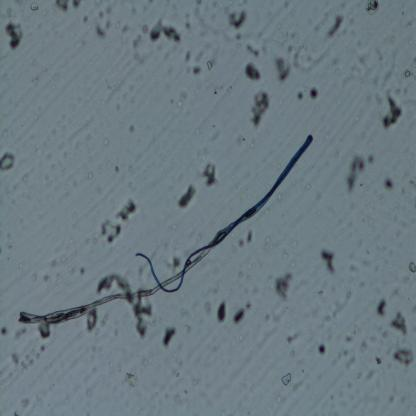Background material: (99, 269, 154, 336), (322, 288, 352, 327), (250, 89, 272, 129), (292, 46, 320, 76), (380, 95, 404, 129), (345, 156, 367, 192), (193, 5, 218, 36), (20, 343, 48, 370), (3, 19, 24, 49), (100, 310, 119, 342), (387, 310, 409, 337), (334, 348, 357, 373), (326, 12, 346, 40), (226, 7, 248, 32), (231, 302, 253, 326), (99, 219, 121, 243), (115, 197, 138, 219), (104, 80, 125, 104), (274, 53, 292, 81), (177, 183, 197, 208), (276, 271, 292, 301), (391, 347, 415, 367), (162, 22, 184, 43), (322, 248, 337, 278), (132, 30, 145, 64), (371, 66, 393, 86), (264, 235, 282, 259), (148, 16, 164, 42), (345, 66, 364, 87), (0, 370, 18, 392), (160, 325, 178, 347), (215, 298, 229, 326), (0, 150, 16, 174), (244, 63, 263, 82), (203, 164, 218, 188), (357, 50, 370, 77), (123, 368, 138, 390), (211, 81, 233, 96), (194, 40, 209, 62), (207, 118, 220, 143), (258, 28, 270, 54), (31, 390, 44, 412), (279, 370, 293, 390), (385, 83, 408, 95), (50, 251, 68, 266), (12, 323, 27, 341), (38, 322, 52, 341), (213, 272, 224, 296), (264, 269, 276, 291), (285, 330, 307, 342), (167, 257, 183, 273), (375, 299, 388, 318), (198, 142, 209, 164), (365, 0, 380, 16), (115, 19, 130, 35), (272, 304, 284, 324), (97, 5, 114, 19), (388, 283, 402, 300), (86, 309, 96, 332), (246, 43, 261, 58), (287, 28, 301, 44), (233, 131, 246, 148), (347, 4, 357, 26), (309, 85, 321, 103), (273, 392, 288, 406), (232, 30, 243, 48), (55, 0, 70, 13), (383, 177, 396, 192), (94, 25, 107, 39), (89, 342, 99, 360), (81, 398, 91, 416), (178, 91, 188, 108), (224, 0, 248, 7), (229, 336, 241, 350), (173, 351, 184, 366), (292, 380, 307, 391), (184, 11, 192, 31), (358, 255, 371, 267), (384, 392, 398, 403), (245, 228, 254, 245), (317, 343, 327, 358), (170, 364, 179, 380), (292, 233, 300, 251), (376, 48, 385, 64), (62, 148, 70, 166), (140, 359, 151, 372), (236, 236, 246, 250), (374, 90, 383, 105), (205, 299, 214, 314), (402, 68, 413, 80), (387, 33, 399, 44), (348, 263, 359, 275), (182, 50, 190, 66), (218, 407, 232, 416), (407, 260, 416, 274), (177, 307, 188, 318), (171, 393, 181, 405), (192, 65, 202, 77), (10, 354, 20, 366), (51, 162, 60, 175), (187, 378, 201, 386), (284, 44, 294, 55), (204, 59, 214, 70), (18, 398, 29, 408), (297, 357, 307, 368), (374, 355, 383, 367), (334, 67, 343, 79), (77, 267, 89, 276), (407, 56, 416, 68), (361, 339, 368, 354), (0, 325, 8, 338), (0, 130, 10, 140), (161, 389, 171, 399), (72, 0, 82, 10), (30, 1, 39, 12), (31, 75, 42, 84), (356, 366, 363, 380), (85, 386, 93, 398), (237, 266, 245, 278), (7, 7, 14, 20), (330, 56, 340, 65), (356, 240, 365, 250), (104, 20, 112, 31), (249, 138, 256, 150), (277, 191, 284, 203), (11, 408, 21, 416), (42, 274, 52, 282), (210, 0, 218, 10), (345, 335, 353, 345), (30, 57, 38, 67), (410, 177, 416, 190), (297, 91, 304, 102), (87, 170, 94, 181), (186, 323, 193, 334), (82, 12, 88, 24), (368, 369, 374, 381), (50, 127, 58, 136), (42, 173, 51, 181), (80, 37, 87, 47), (406, 20, 412, 31), (114, 164, 120, 175), (30, 272, 38, 280), (69, 266, 77, 274), (107, 362, 115, 370), (110, 384, 117, 393), (318, 289, 325, 298), (127, 124, 134, 133), (103, 136, 109, 146), (368, 155, 374, 165), (407, 36, 413, 46), (382, 329, 388, 339), (18, 262, 25, 270), (243, 410, 252, 416), (6, 232, 11, 242), (266, 207, 272, 215), (186, 66, 192, 74), (284, 2, 292, 8), (306, 182, 312, 190), (361, 216, 367, 224), (341, 2, 346, 11), (142, 24, 147, 33), (354, 325, 358, 336), (41, 64, 46, 72), (195, 0, 203, 5), (266, 312, 270, 322), (402, 185, 406, 195), (291, 260, 297, 266), (0, 243, 3, 255), (248, 273, 252, 281), (317, 192, 321, 200), (240, 334, 244, 342), (291, 349, 295, 357), (184, 387, 188, 395), (224, 8, 229, 14), (360, 282, 364, 289), (348, 382, 352, 388), (214, 348, 218, 354), (301, 368, 304, 375), (8, 243, 12, 248), (402, 11, 406, 16), (170, 98, 173, 104)
Cotton: (17, 136, 315, 328)
